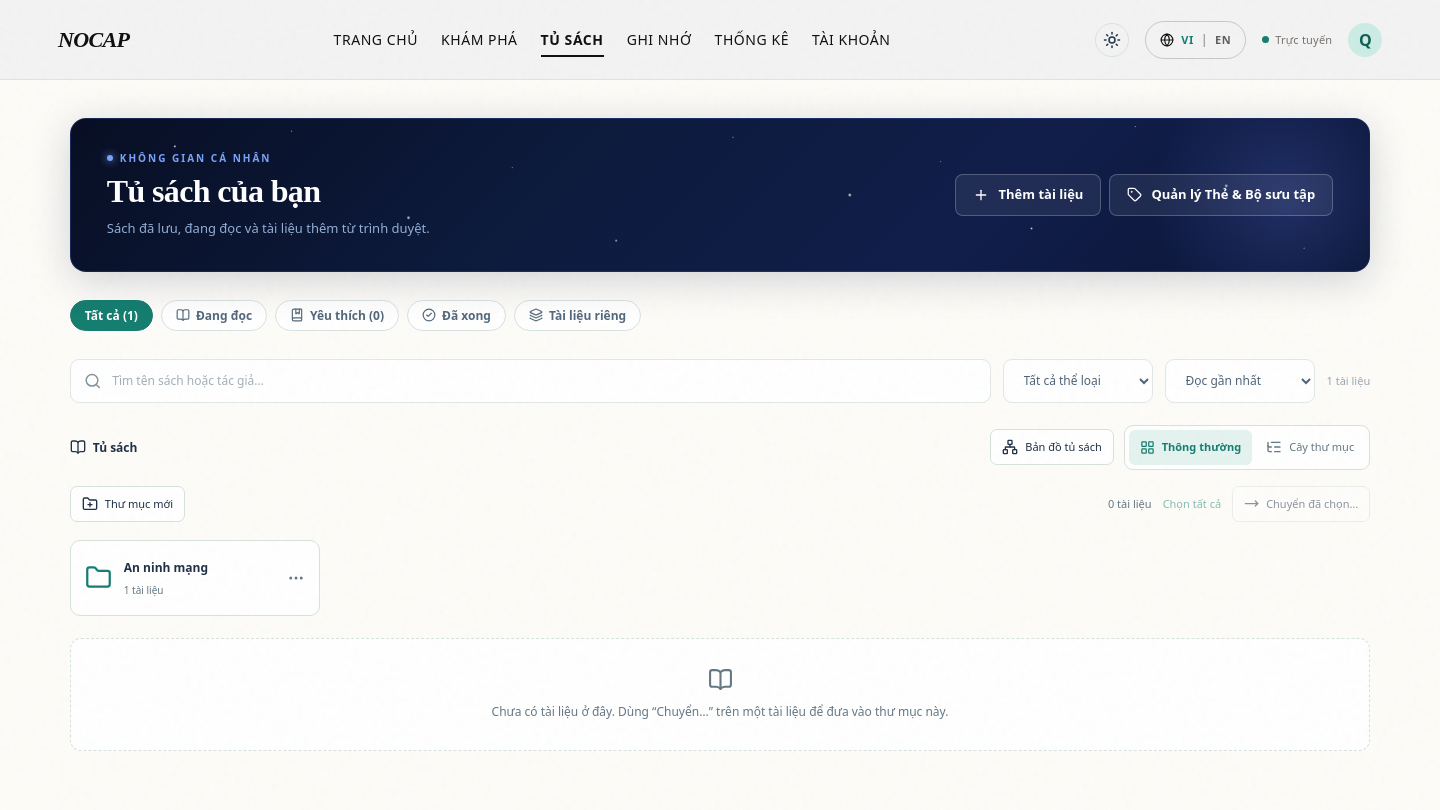
nested library integration › finds nested books from the library root and reveals their full folder path
This screenshot has width=1440, height=810.
Expected: the button with aria-label "Mở thư mục An ninh mạng" is shown, x1=75 y1=548 x2=281 y2=608
In the field named "Tìm sách": (543, 381) x1=110 y1=371 x2=977 y2=390, type "Nested Research"
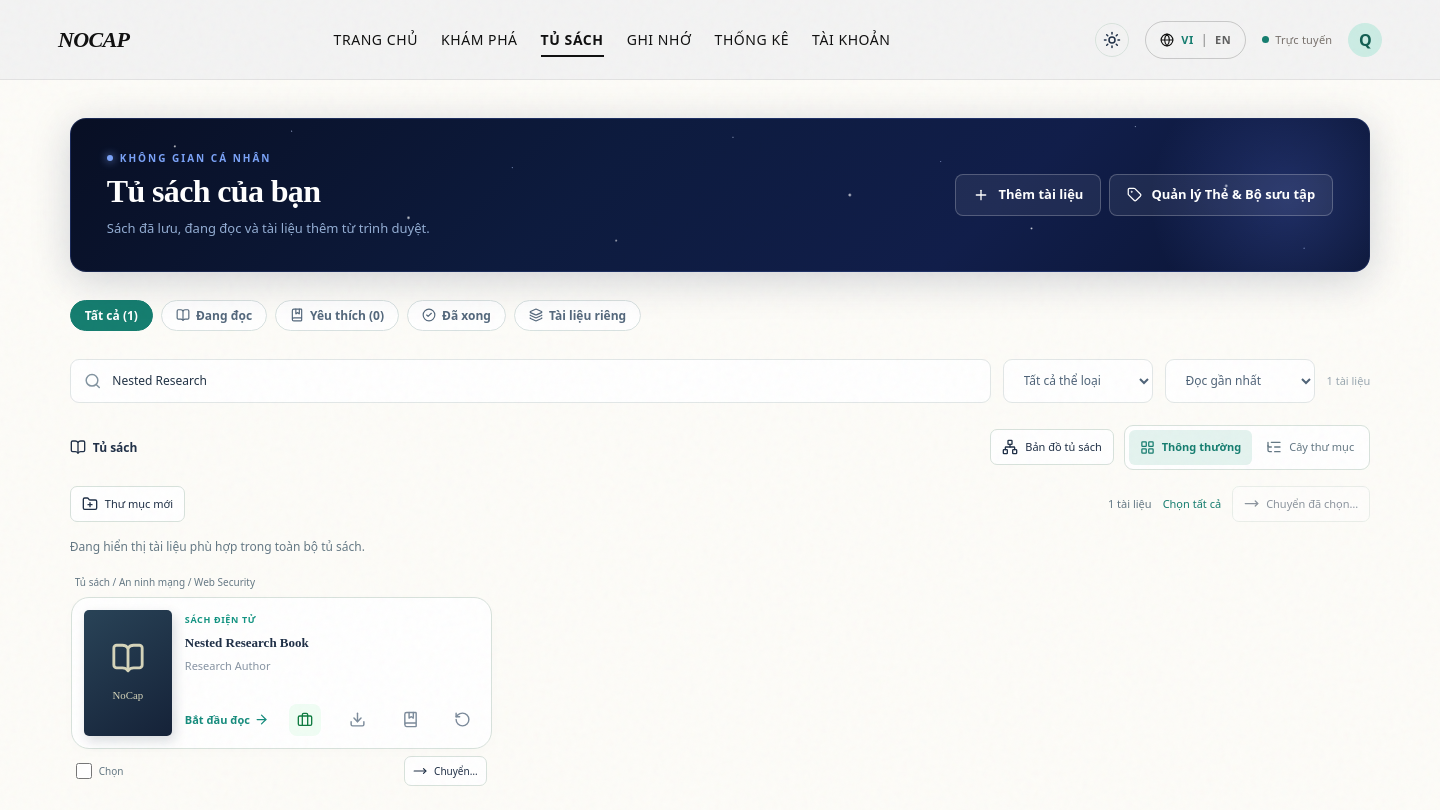
Now the button "Nested Research Book" is shown, box x1=185 y1=634 x2=479 y2=652
Now the text "Tủ sách / An ninh mạng / Web Security" is shown, box x1=75 y1=575 x2=255 y2=589
Now the text "Đang hiển thị tài liệu phù hợp trong toàn bộ tủ sách." is shown, box x1=70 y1=538 x2=365 y2=555
